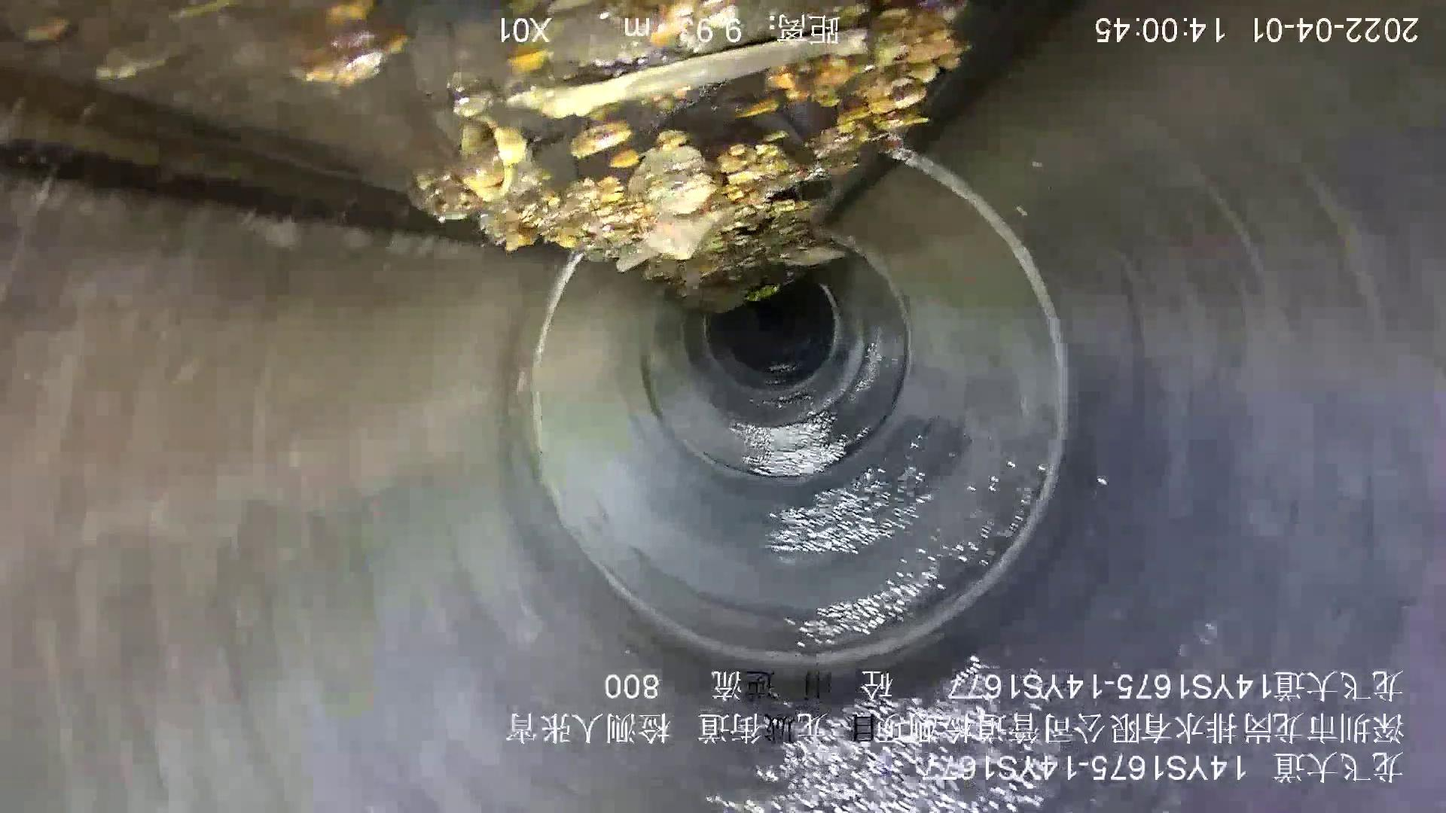CJ: (1, 1, 978, 306)
CKTJ: (521, 134, 1078, 675)
